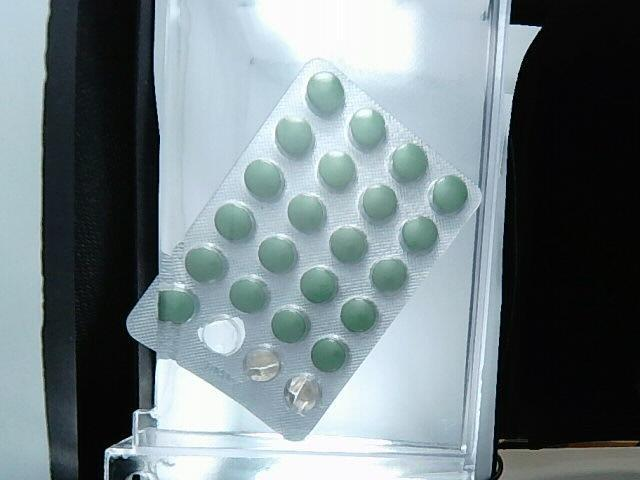Light Front: (128, 59, 481, 439)
No Pill Front: (198, 315, 245, 356), (284, 373, 321, 416), (244, 344, 280, 382)
Pill Front: (306, 71, 344, 115), (245, 159, 285, 200), (275, 118, 315, 158), (215, 203, 255, 241), (350, 108, 387, 149), (185, 246, 226, 282), (391, 143, 427, 183), (318, 151, 355, 189), (288, 194, 325, 232), (259, 235, 297, 272), (300, 266, 338, 302), (340, 296, 378, 331), (361, 185, 397, 221), (330, 226, 367, 261), (230, 276, 267, 311), (311, 336, 348, 371), (433, 175, 468, 211), (401, 216, 437, 251), (370, 258, 407, 292), (271, 308, 308, 342), (159, 290, 195, 323)
